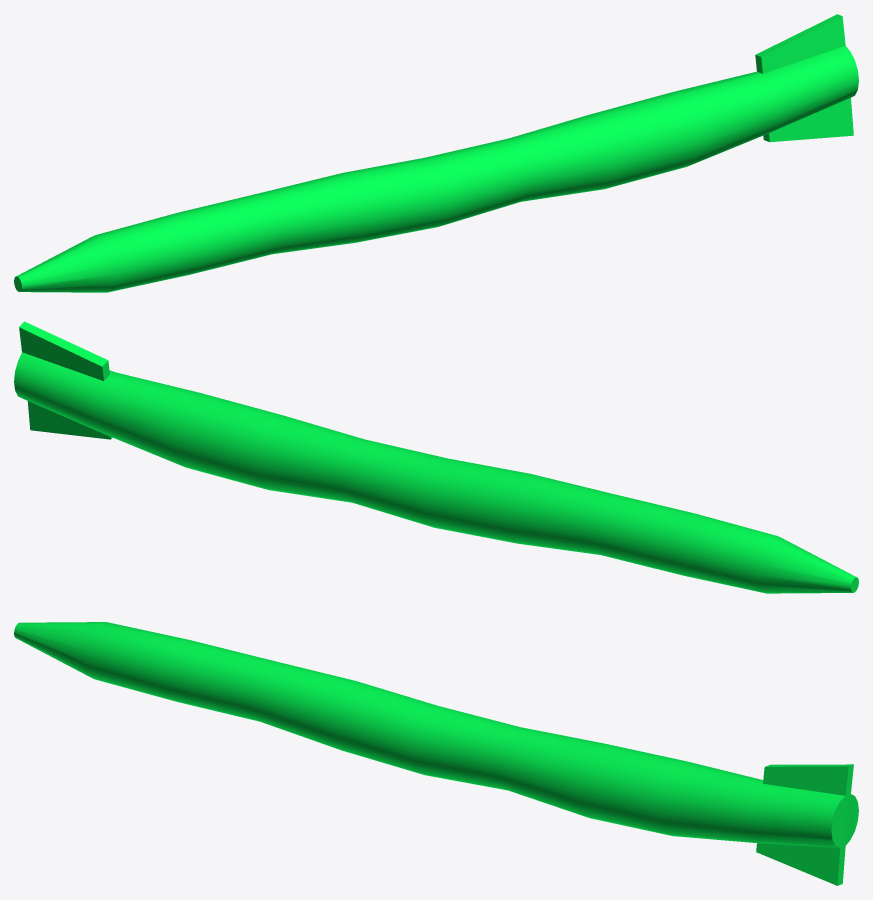
Rendered from arrow_low.fbx.
3 views of the same model, one above another, from view 1: azimuth 30°, elevation 25°; view 2: azimuth 150°, elevation 25°; view 3: azimuth 330°, elevation 25° (orthographic).
Visible parts, largest first — view 1: Arrow_low; view 2: Arrow_low; view 3: Arrow_low.
Part boxes in pixels (bbox=[...]): Arrow_low: bbox=[14, 14, 858, 292]; Arrow_low: bbox=[14, 321, 858, 593]; Arrow_low: bbox=[14, 622, 858, 885].
Bounding box in the file's own units: 50.03 × 6.54 × 4.
